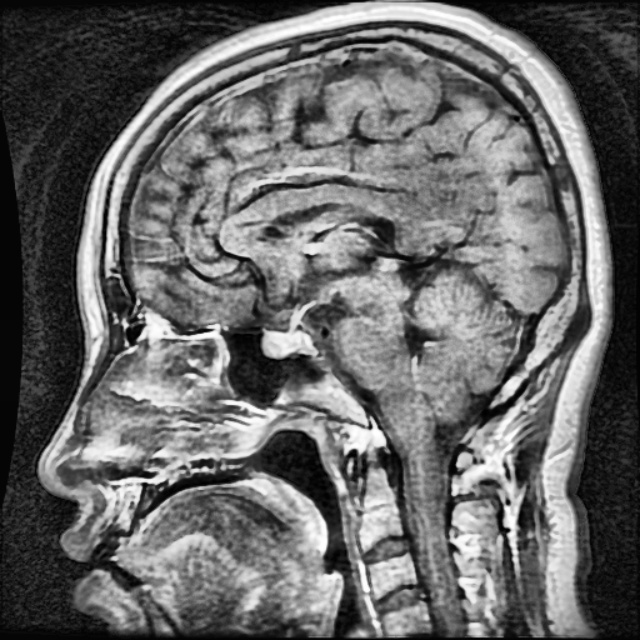Pituitary: (262, 328, 313, 355)
